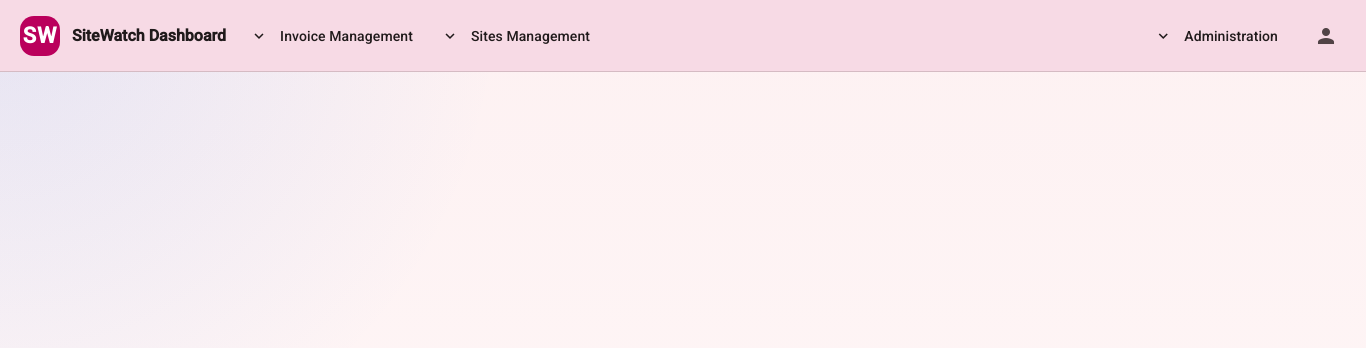
Scenario: DashboardShellComponent › opens the sites menu with the Manage Issues entry
Click the menu item with aria-label "Sites management menu": (518, 36) [429, 16, 606, 56]
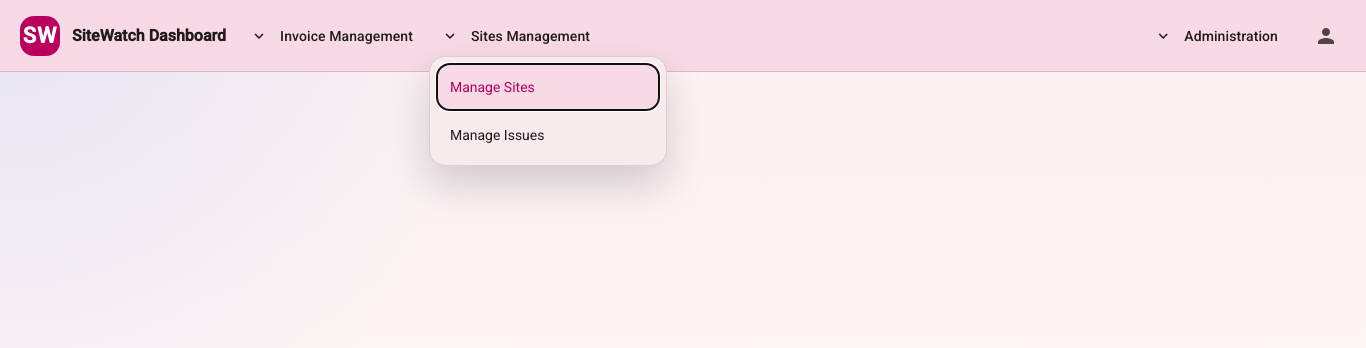
Expected: the menu with class "dashboard-shell__menu-panel" shows "Manage Issues", [438, 112, 658, 156]
